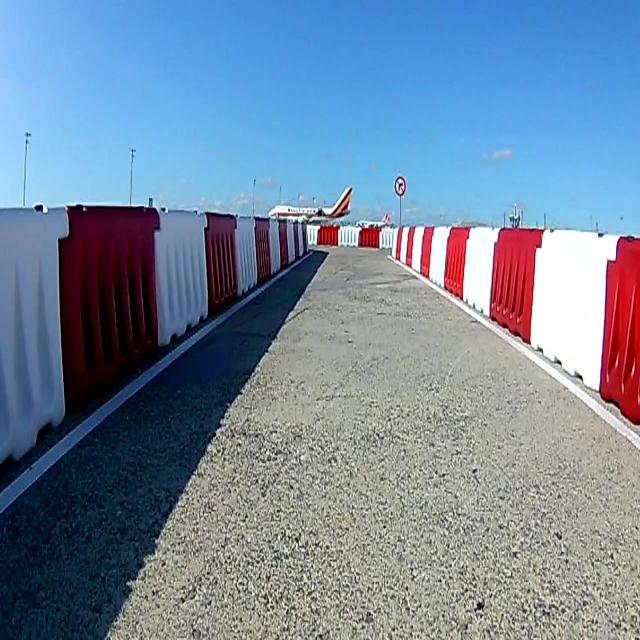sagadonulmez: (395, 176, 407, 196)
